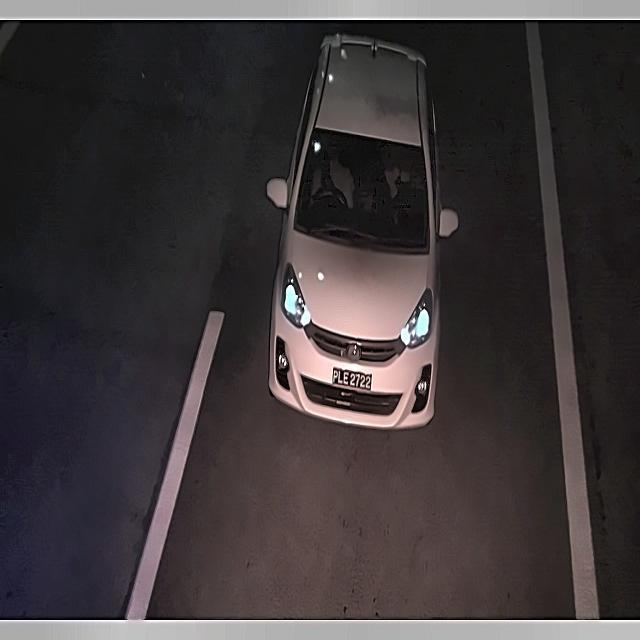car: (329, 362, 376, 397)
